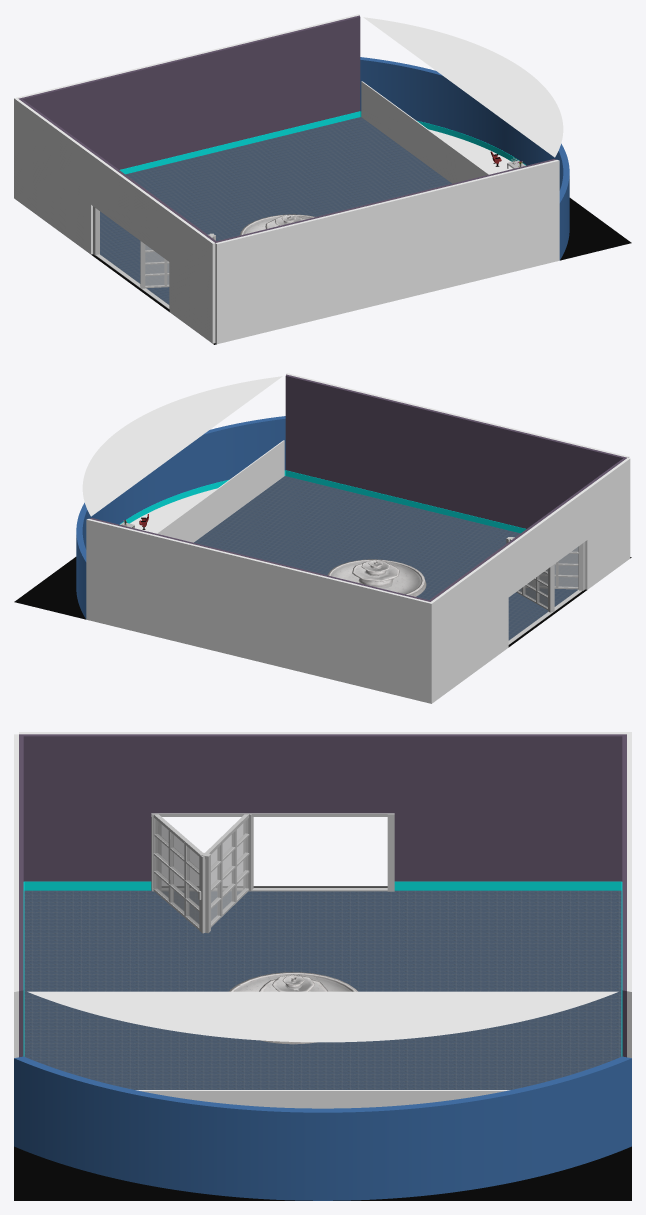
The model's file is Command center.obj.
3 renders of one model, top to bottom at view 1: azimuth 30°, elevation 25°; view 2: azimuth 150°, elevation 25°; view 3: azimuth 270°, elevation 25°, orthographic. The views are drawn at different scales.
Visible parts, largest first — view 1: wall_4_26, wall_2_13, room_6_36, wall_1_6, room_8_38, wall_3_20, wall_5_33, ground_1, wall_2_11, room_8_37, wall_2_14, wall_4_28 (+7 smaller); view 2: wall_2_12, wall_4_27, room_6_36, wall_1_6, room_8_38, wall_3_20, wall_5_33, ground_1, wall_4_25, Circle_44, room_8_37, 42 (+11 smaller); view 3: room_6_36, wall_1_5, wall_3_19, room_8_38, ground_1, wall_5_32, wall_1_4, sweethome3d_window_pane1_50, sweethome3d_window_pane2_48, wall_1_8, wall_3_21, wall_1_7 (+10 smaller).
Part boxes in pixels (<box>): wall_4_26: <box>215,160,559,344</box>; wall_2_13: <box>23,17,360,169</box>; room_6_36: <box>100,117,451,304</box>; wall_1_6: <box>14,98,215,343</box>; room_8_38: <box>363,17,563,157</box>; wall_3_20: <box>360,60,563,190</box>; wall_5_33: <box>361,81,488,183</box>; ground_1: <box>91,198,631,344</box>; wall_2_11: <box>119,111,360,174</box>; room_8_37: <box>428,129,512,174</box>; wall_2_14: <box>14,14,359,98</box>; wall_4_28: <box>216,160,558,243</box>; wall_2_12: <box>86,519,431,703</box>; wall_4_27: <box>285,376,622,528</box>; room_6_36: <box>194,476,577,640</box>; wall_1_6: <box>431,459,630,703</box>; room_8_38: <box>82,376,282,516</box>; wall_3_20: <box>82,419,285,549</box>; wall_5_33: <box>157,440,284,542</box>; ground_1: <box>14,557,631,647</box>; wall_4_25: <box>285,470,526,533</box>; Circle_44: <box>327,559,426,596</box>; room_8_37: <box>130,488,217,533</box>; 42: <box>331,561,421,593</box>; room_6_36: <box>24,889,621,1089</box>; wall_1_5: <box>23,736,622,881</box>; wall_3_19: <box>14,1058,631,1200</box>; room_8_38: <box>27,991,618,1042</box>; ground_1: <box>14,886,631,1200</box>; wall_5_32: <box>140,1091,505,1108</box>; wall_1_4: <box>24,881,621,890</box>; sweethome3d_window_pane1_50: <box>154,819,199,926</box>; sweethome3d_window_pane2_48: <box>211,819,248,924</box>; wall_1_8: <box>19,732,631,734</box>; wall_3_21: <box>14,1057,631,1112</box>; wall_1_7: <box>19,734,625,736</box>.
Bounding box in the file's own units: 3058 × 700 × 2540.
